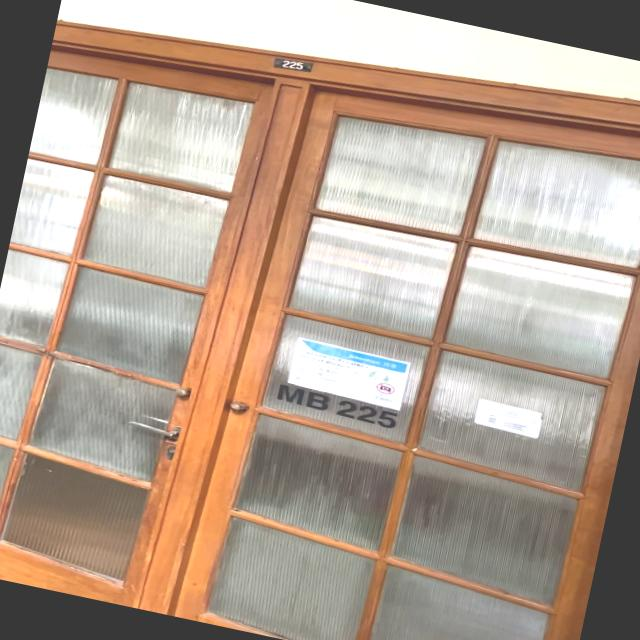room225: (269, 51, 316, 76)
room225Window: (270, 381, 402, 432)
